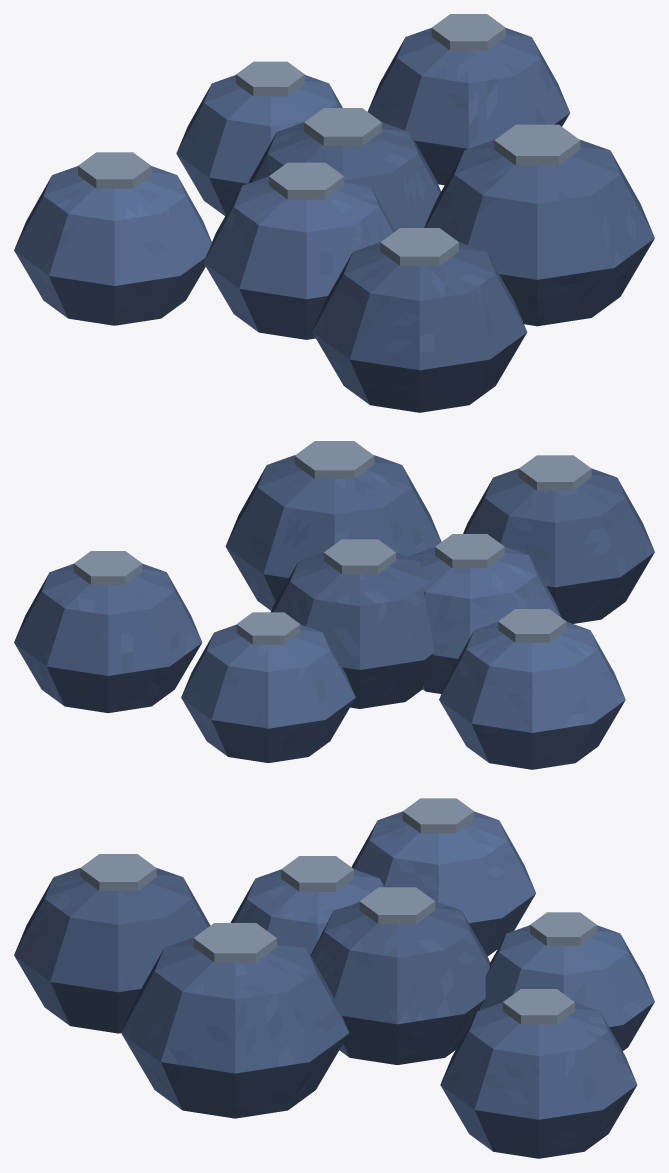
Rendered from blueberries.glb.
3 renders of one model, top to bottom at view 1: azimuth 30°, elevation 25°; view 2: azimuth 150°, elevation 25°; view 3: azimuth 270°, elevation 25°, orthographic. The views are drawn at different scales.
Visible parts, largest first — view 1: block_individual berry (×7), block_dusty blossom crown (×7); view 2: block_individual berry (×7), block_dusty blossom crown (×7); view 3: block_individual berry (×7), block_dusty blossom crown (×7).
Part boxes in pixels (x1=…): block_individual berry (×7): x1=14, y1=28, x2=654, y2=412; block_dusty blossom crown (×7): x1=78, y1=14, x2=580, y2=265; block_individual berry (×7): x1=14, y1=455, x2=654, y2=769; block_dusty blossom crown (×7): x1=73, y1=441, x2=591, y2=644; block_individual berry (×7): x1=14, y1=811, x2=654, y2=1158; block_dusty blossom crown (×7): x1=80, y1=798, x2=596, y2=1024.
Size of the model in its own units: 0.1084 by 0.0314 by 0.1071.
1 material, 1 textured.
